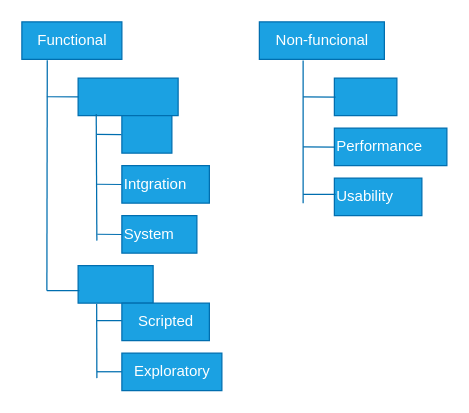
Some shapes in this 469 by 413 pixel diagram are drawn without their labels. The shapes that lost their labels are listed below. From the top down, each one's centre as x and y in pixels, then its label:
[127,96]: Automated
[365,96]: Load
[146,133]: Unit
[115,283]: Manual
